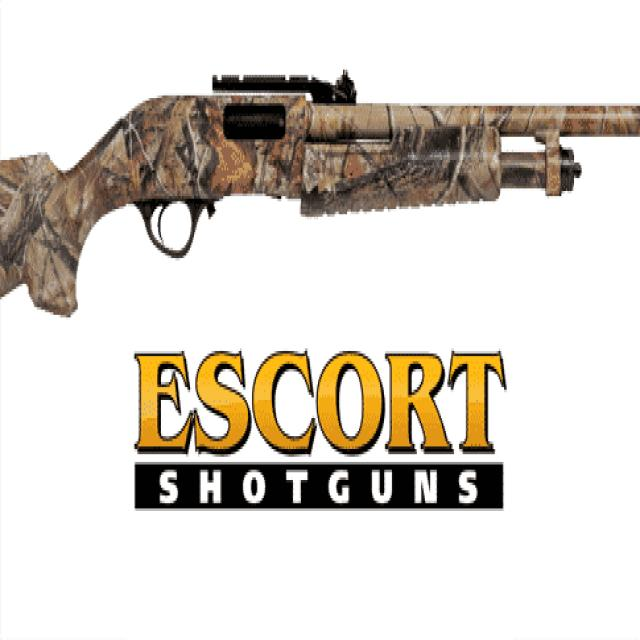ShotGun: (0, 72, 640, 320)
